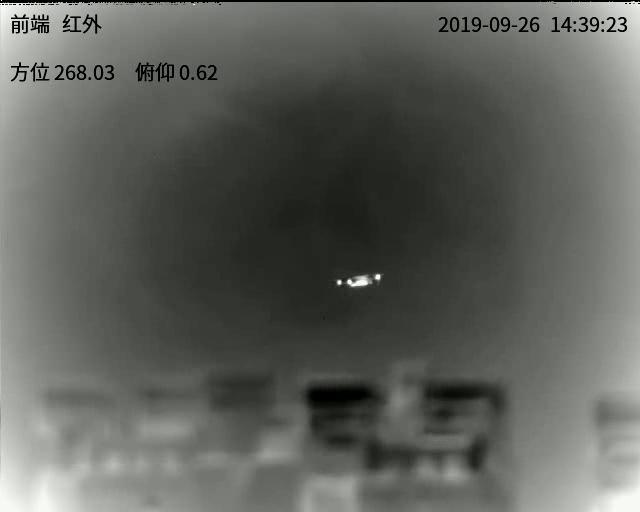DRONE: (335, 271, 384, 290)
